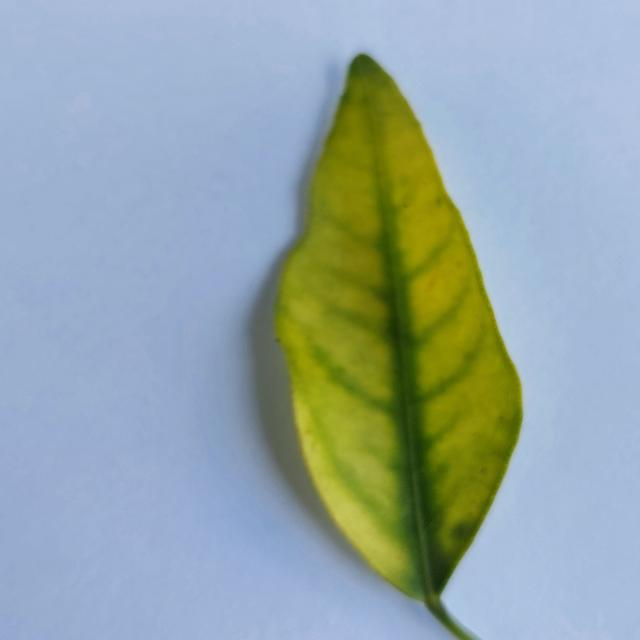greening: (276, 55, 522, 640)
